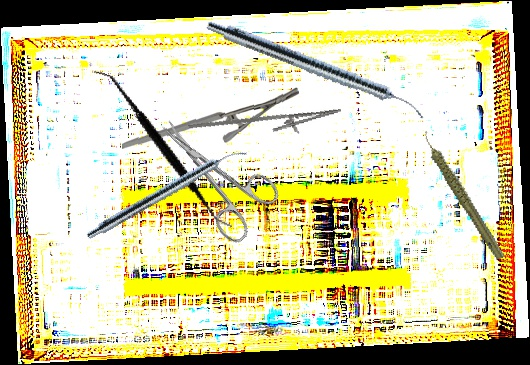Handpiece: (203, 16, 430, 121), (84, 141, 248, 245), (422, 119, 506, 270)
Iris Scissors: (140, 97, 288, 248)
Needle Holder: (121, 79, 300, 156), (188, 90, 344, 158)
Spatula Surgical: (60, 69, 266, 229)
